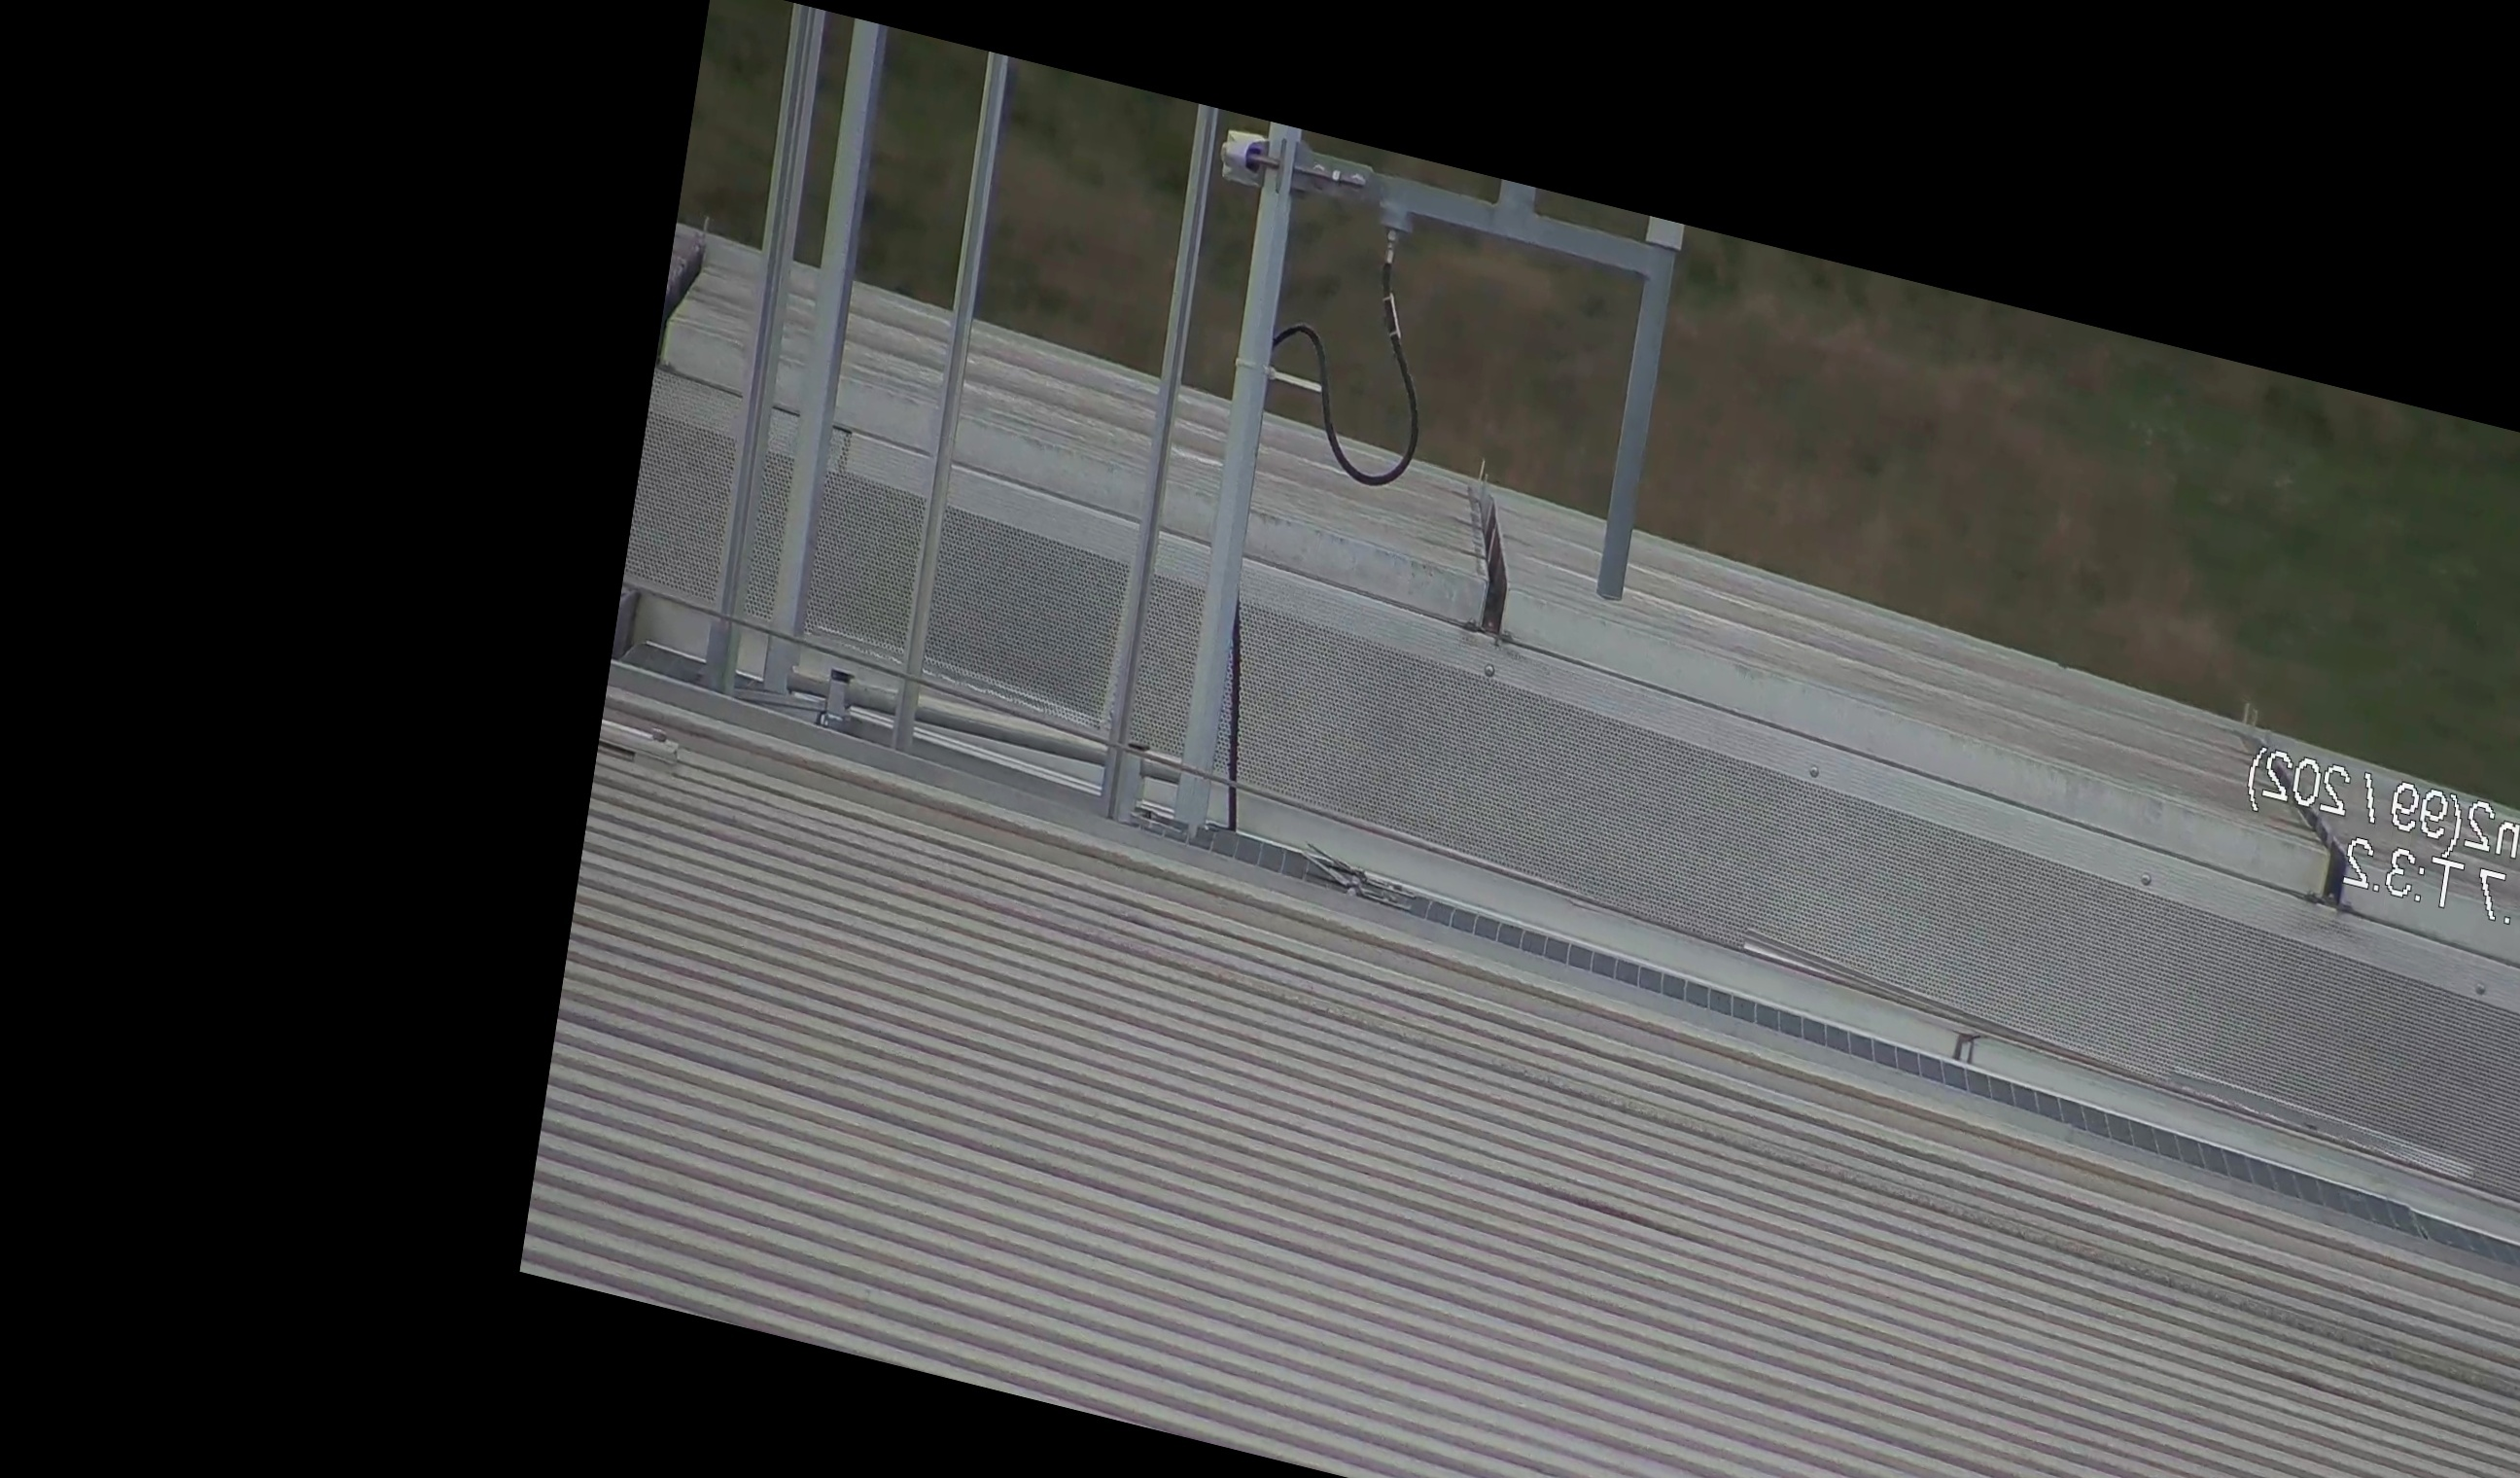Other: (615, 187, 719, 384)
